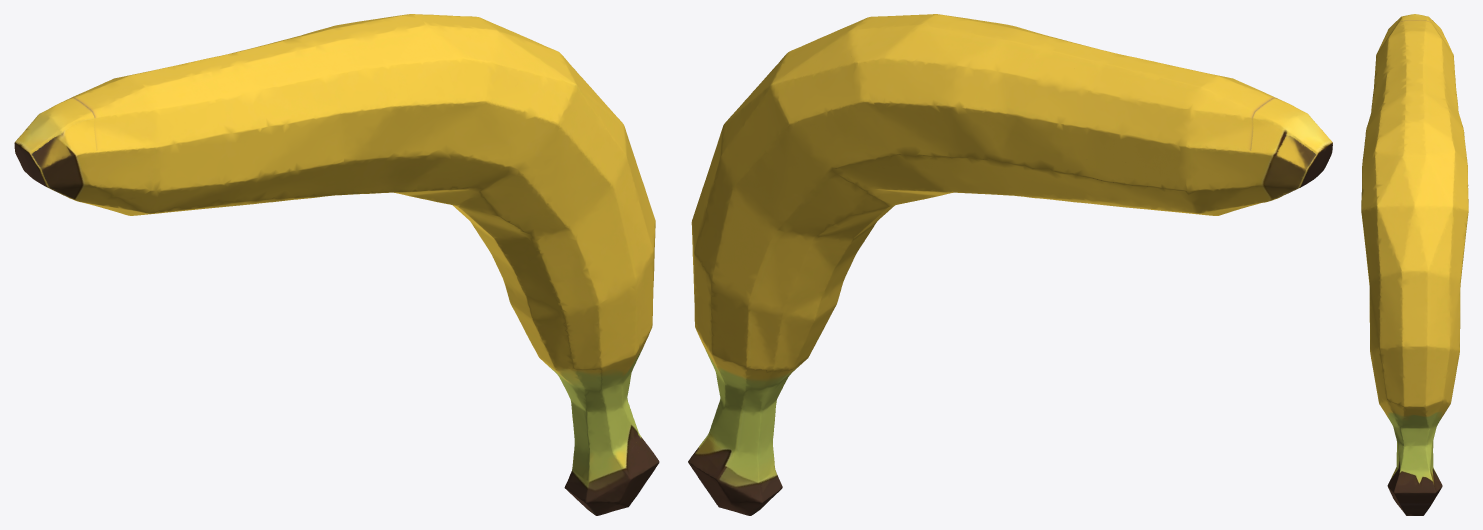
File: banana-source.glb
The picture shows the model from 3 angles, left to right: view 1: azimuth 30°, elevation 25°; view 2: azimuth 150°, elevation 25°; view 3: azimuth 270°, elevation 25°; orthographic projection. The views are drawn at different scales.
Bounding box in the file's own units: 1.88 × 1.56 × 0.4484.
1 material, 1 textured.
